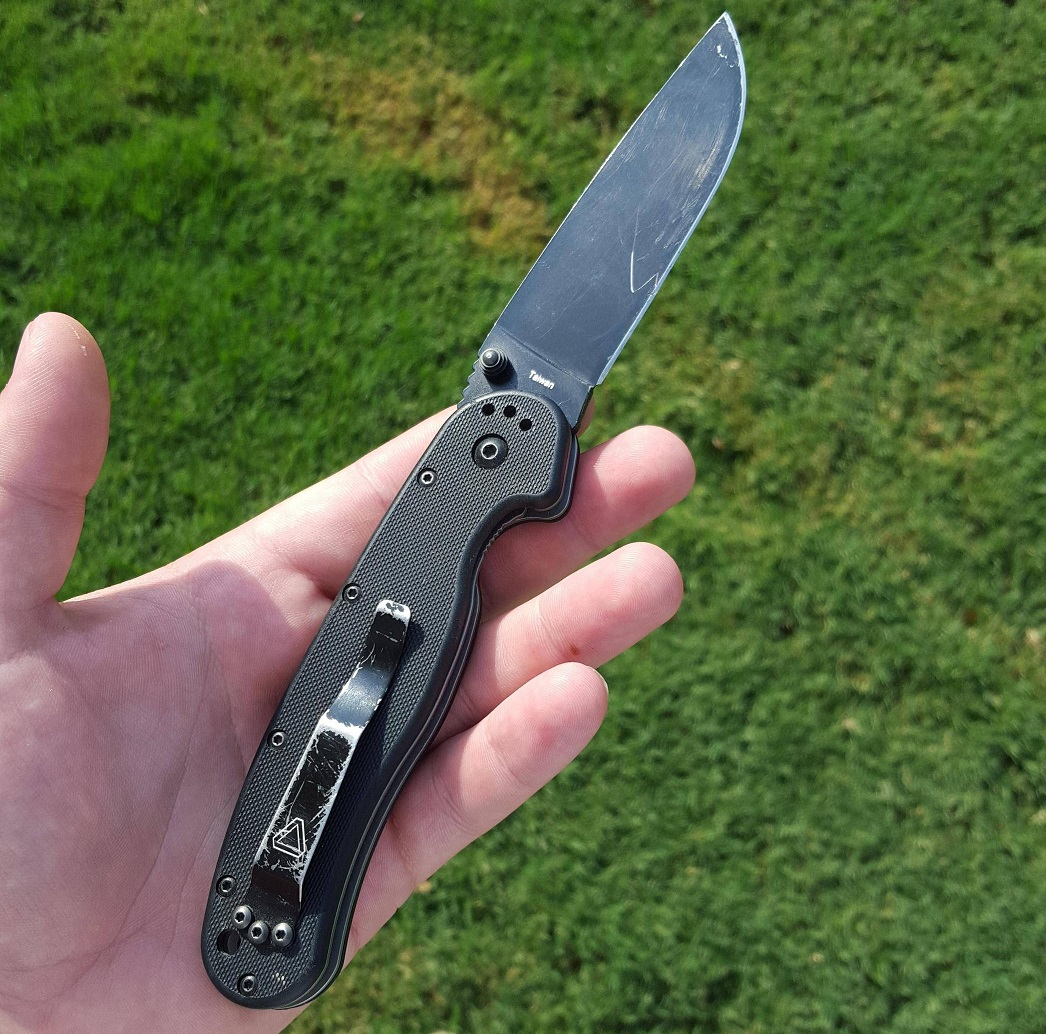knife: (176, 1, 759, 1013)
